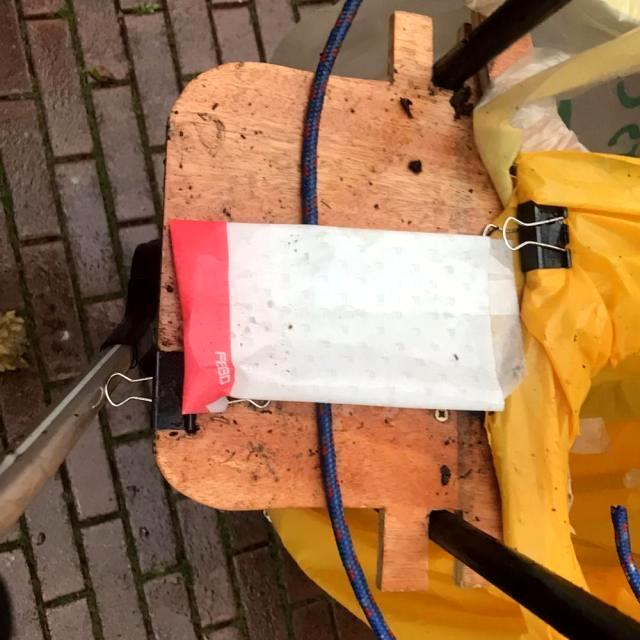Paper: (168, 214, 534, 420)
